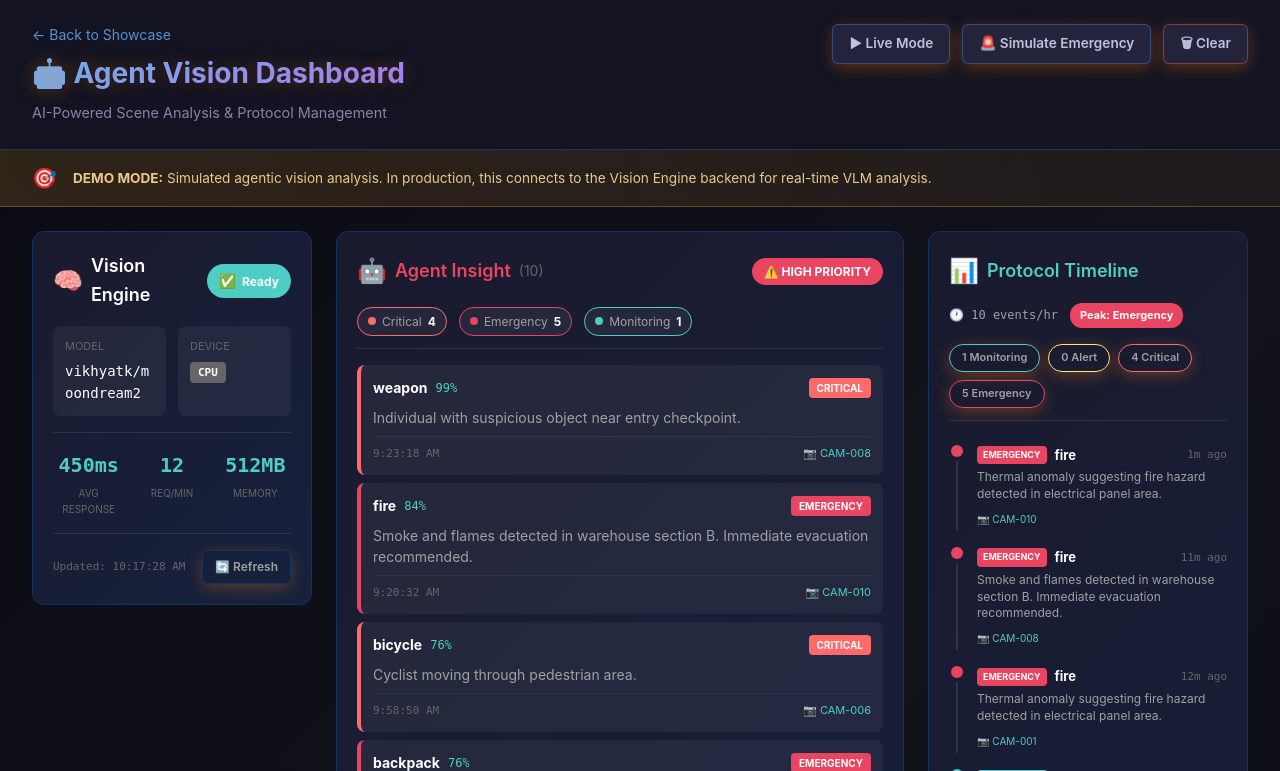
Test: AgentVisionDashboard › insight selection › shows detail panel when insight is clicked
Click the button with test id "insight-card" at [620, 420], box [357, 365, 883, 475]
(page scrolled)
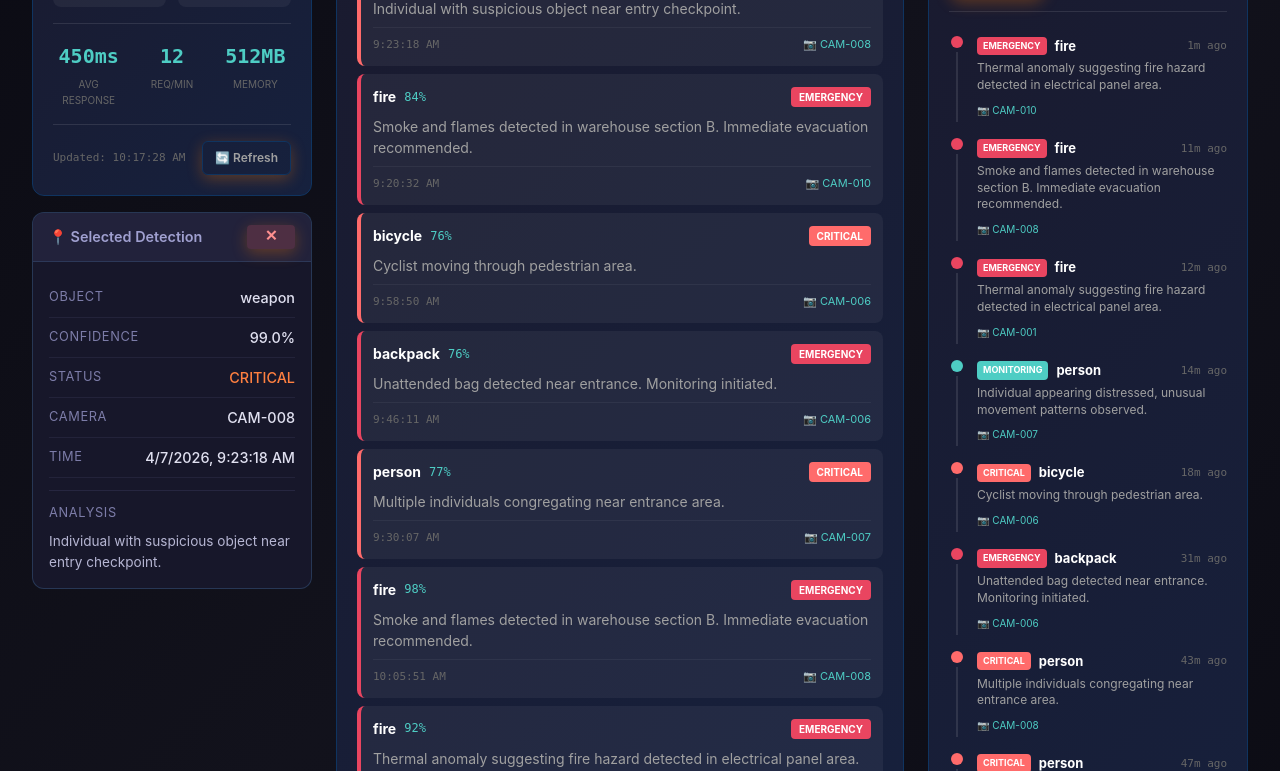
Expected: the element with test id "selected-insight-detail" is shown, [32, 212, 312, 589]
